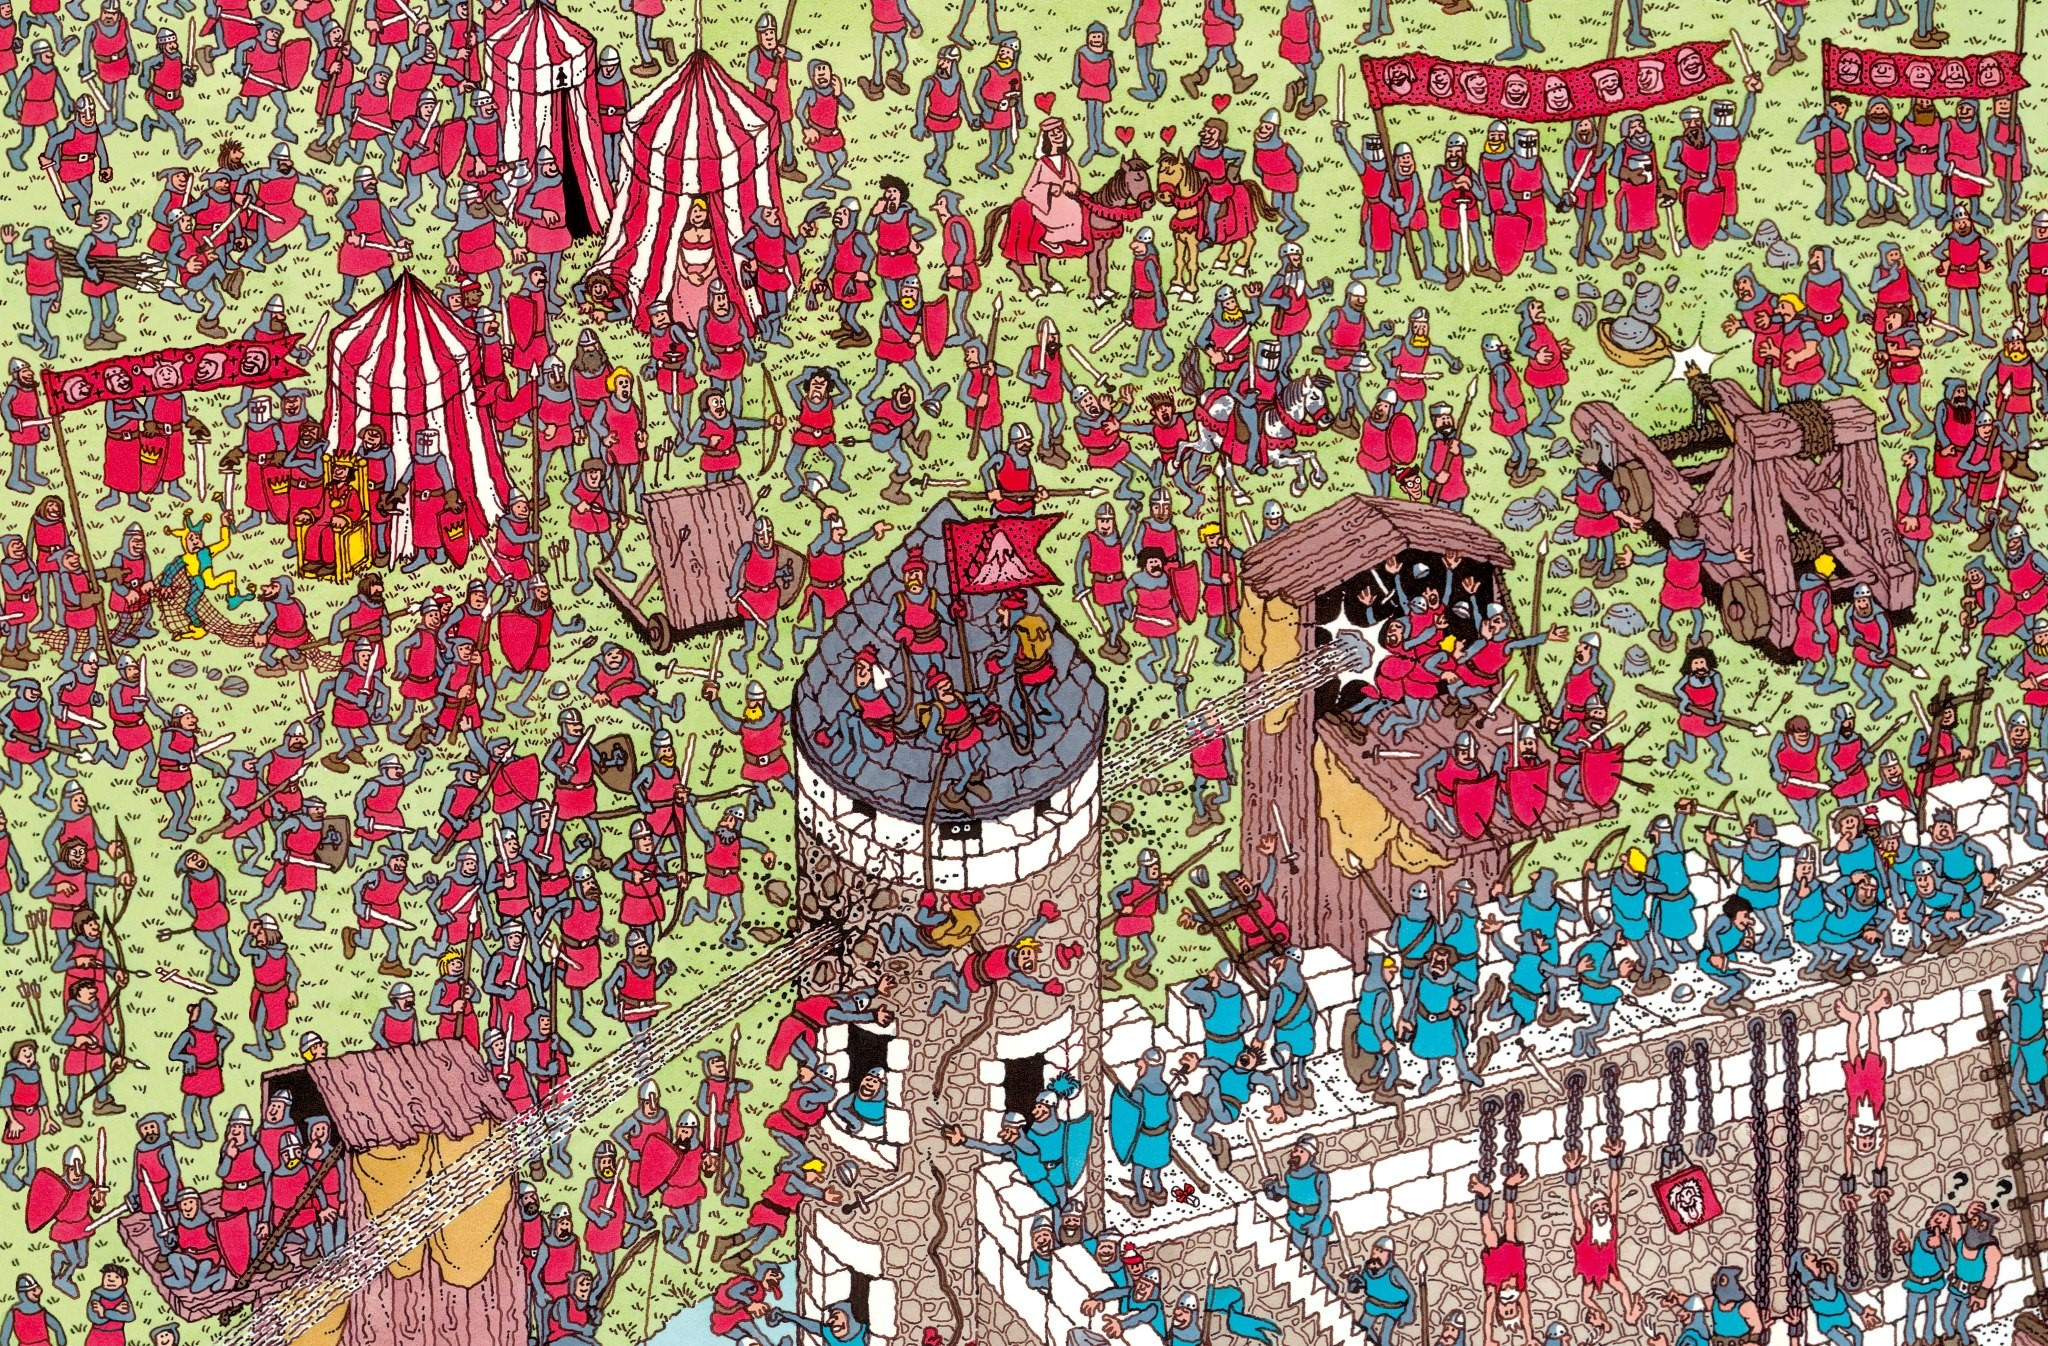waldo: (1387, 466, 1426, 505)
